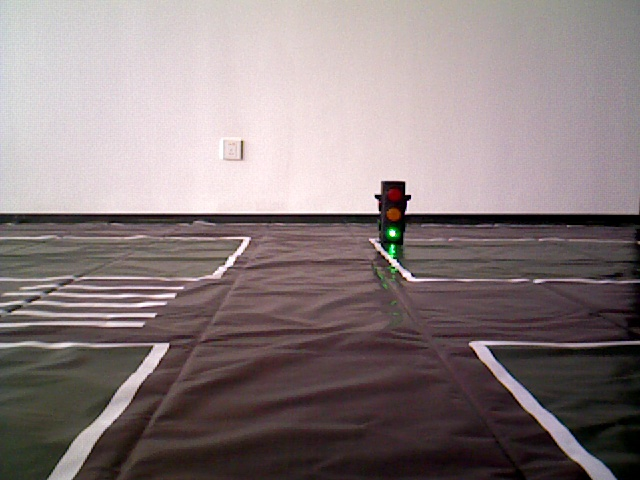green: (380, 180, 406, 246)
